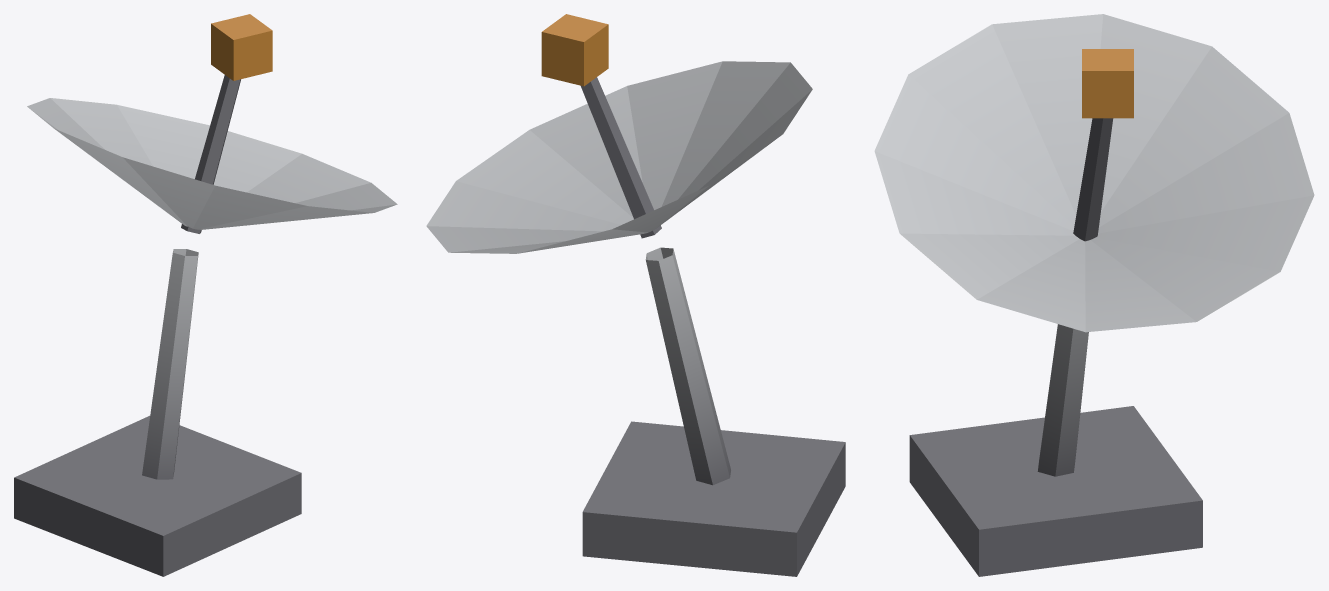
File: drop_antenna_a.glb
3 renders of one model, left to right at view 1: azimuth 30°, elevation 25°; view 2: azimuth 150°, elevation 25°; view 3: azimuth 270°, elevation 25°, orthographic. The views are drawn at different scales.
Visible parts, largest first — view 1: drop_antenna_a; view 2: drop_antenna_a; view 3: drop_antenna_a.
Part boxes in pixels (x1,y1,x2,y2): drop_antenna_a: [14, 14, 397, 576]; drop_antenna_a: [426, 14, 845, 576]; drop_antenna_a: [874, 14, 1314, 576].
Bounding box in the file's own units: 0.3436 × 0.4361 × 0.3379.
